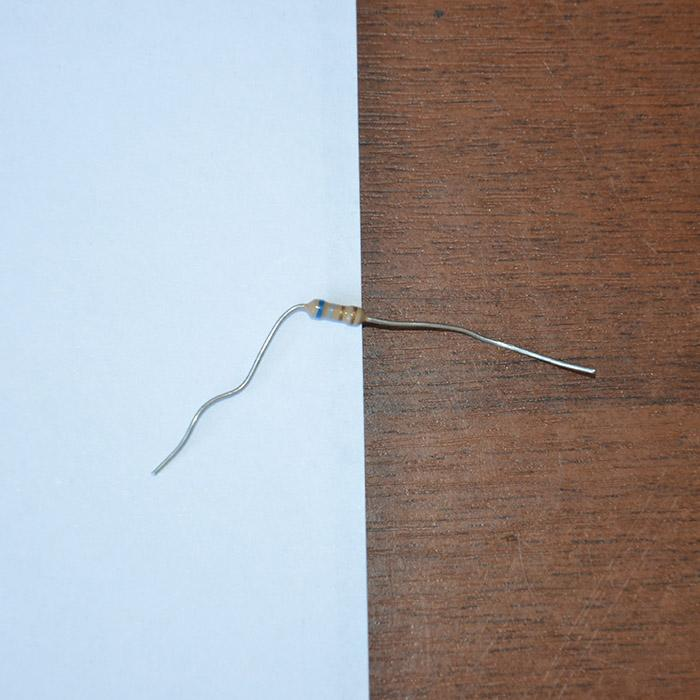resistor: (302, 295, 368, 330)
